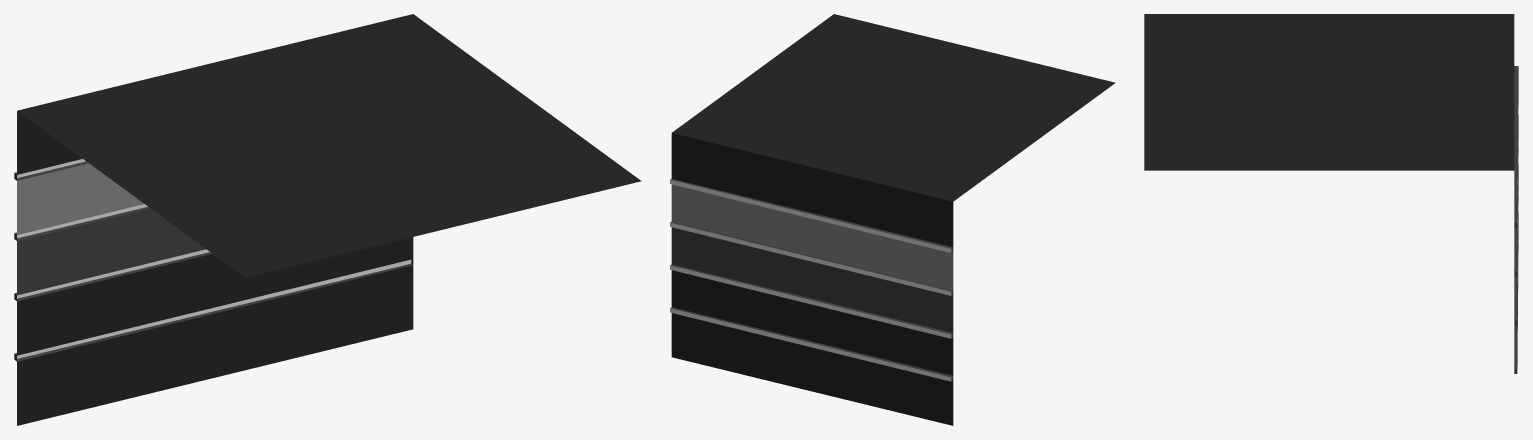
The model's file is MallSide1.fbx.
The picture shows the model from 3 angles, left to right: view 1: azimuth 30°, elevation 25°; view 2: azimuth 150°, elevation 25°; view 3: azimuth 270°, elevation 25°; orthographic projection. The views are drawn at different scales.
Visible parts, largest first — view 1: MallCorner1; view 2: MallCorner1; view 3: MallCorner1.
Part boxes in pixels (x1,y1,x2,y2): MallCorner1: (14,14,641,425); MallCorner1: (670,14,1115,425); MallCorner1: (1144,14,1518,373).
Size of the model in its own units: 200 by 152 by 203.
